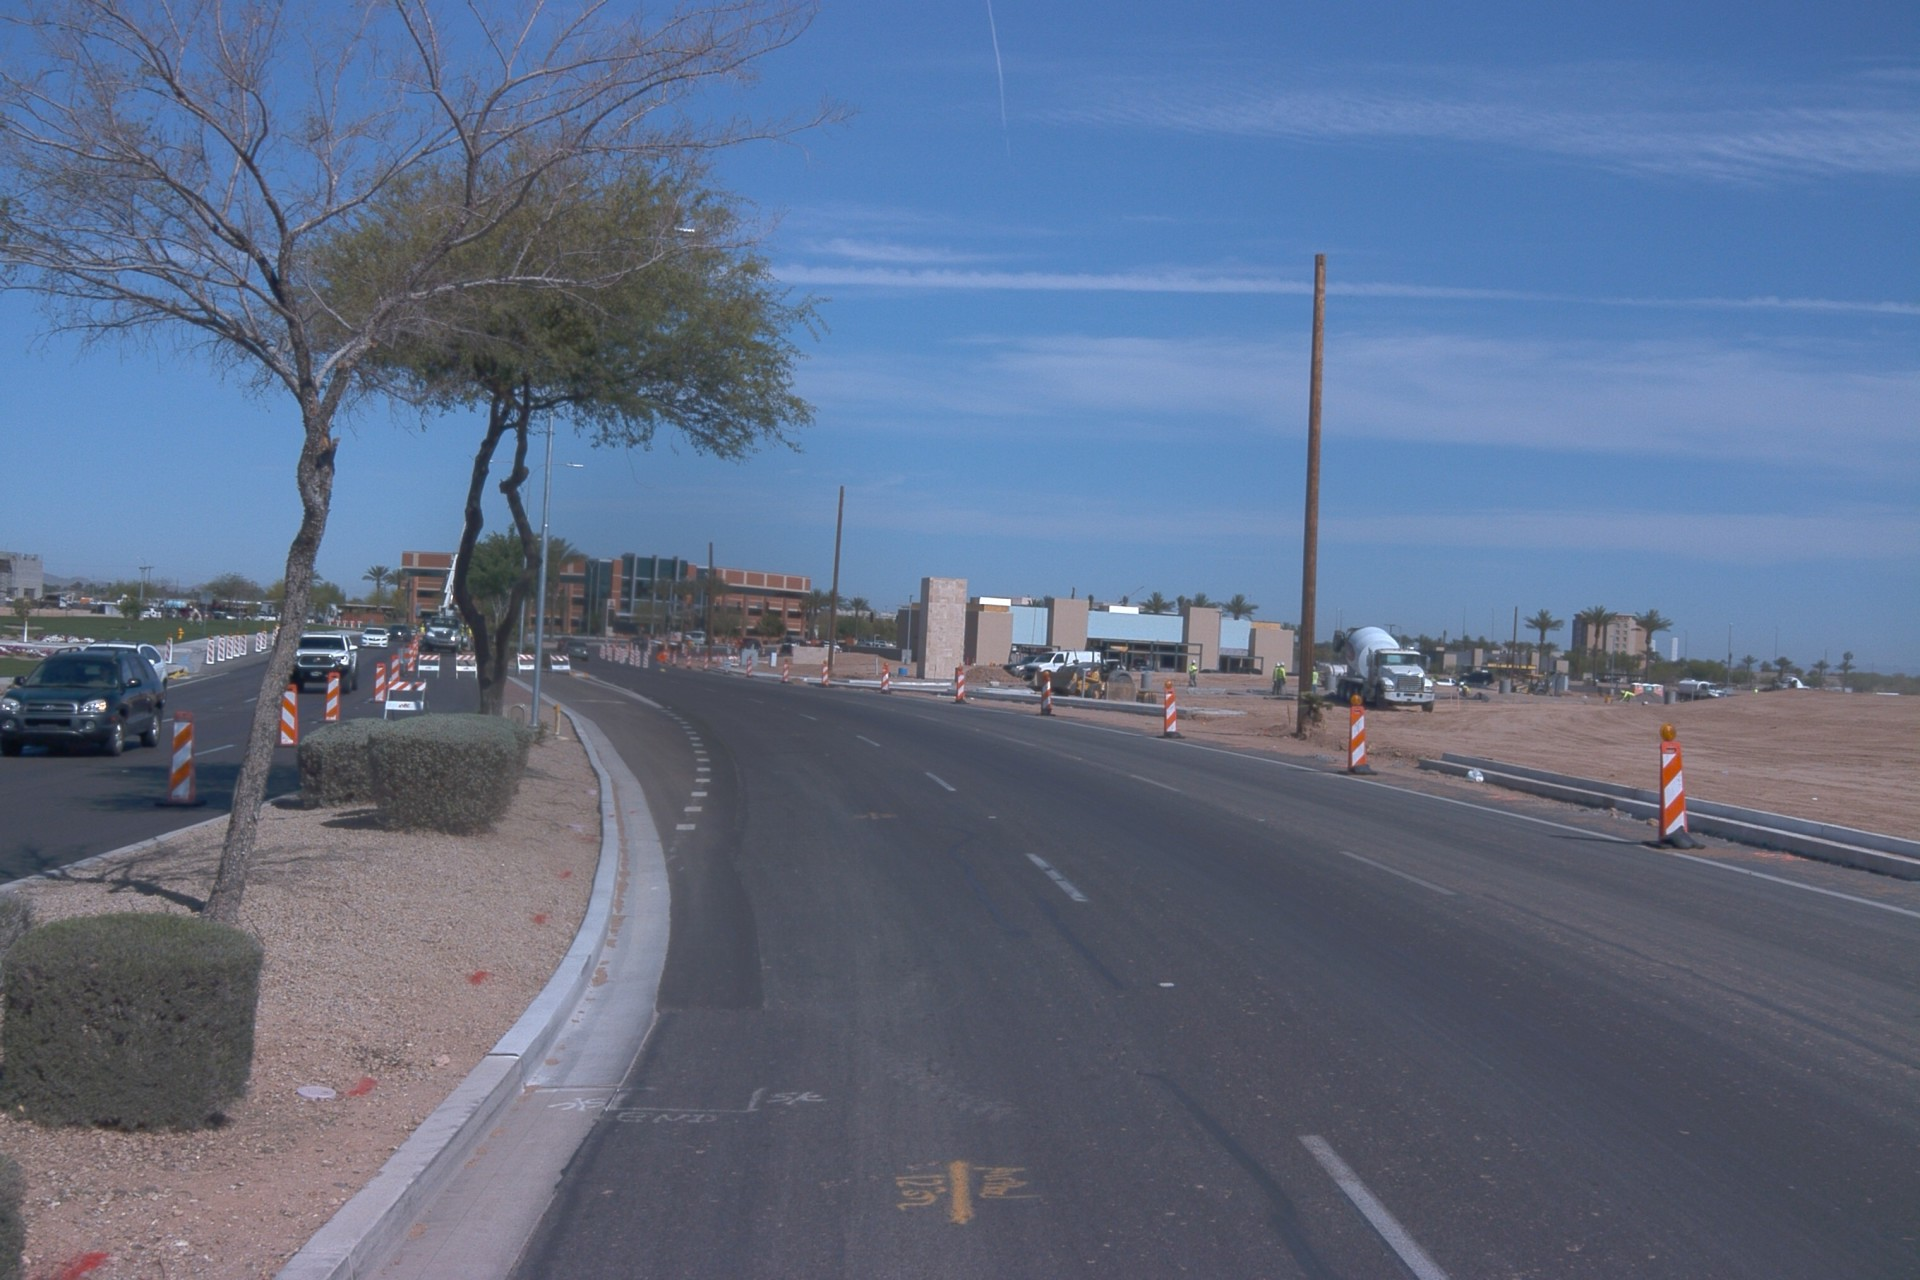TYPE_PEDESTRIAN: (1276, 661, 1288, 697), (1271, 662, 1282, 696), (1188, 659, 1199, 688), (1310, 667, 1319, 696), (1457, 681, 1471, 698), (467, 618, 474, 639), (459, 624, 467, 641), (691, 637, 697, 649)
TYPE_VEHICLE: (0, 647, 166, 755), (418, 502, 477, 659), (77, 637, 169, 708), (293, 629, 358, 689), (1022, 651, 1107, 682), (607, 617, 642, 662), (1673, 676, 1726, 702), (654, 630, 700, 657), (1001, 655, 1041, 683), (27, 592, 73, 614), (1512, 681, 1554, 698), (1316, 664, 1348, 685), (360, 629, 393, 649), (561, 641, 591, 662), (684, 630, 717, 649), (779, 637, 810, 657), (243, 609, 276, 622), (1105, 654, 1127, 673), (556, 633, 578, 650), (1224, 666, 1262, 675), (388, 625, 409, 640), (1434, 676, 1460, 687), (1871, 688, 1902, 697), (88, 599, 106, 613), (150, 606, 164, 620), (137, 608, 150, 620), (1197, 668, 1221, 674), (680, 631, 693, 642), (1284, 671, 1299, 678)
